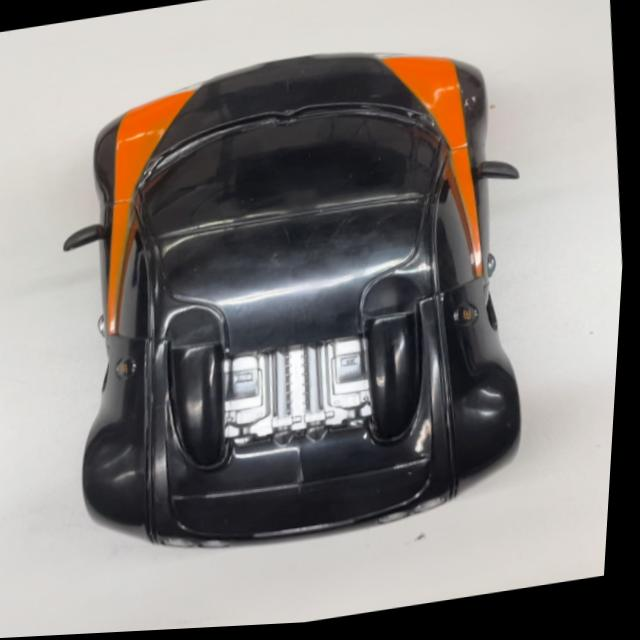vehicle_body: (1, 8, 583, 575)
